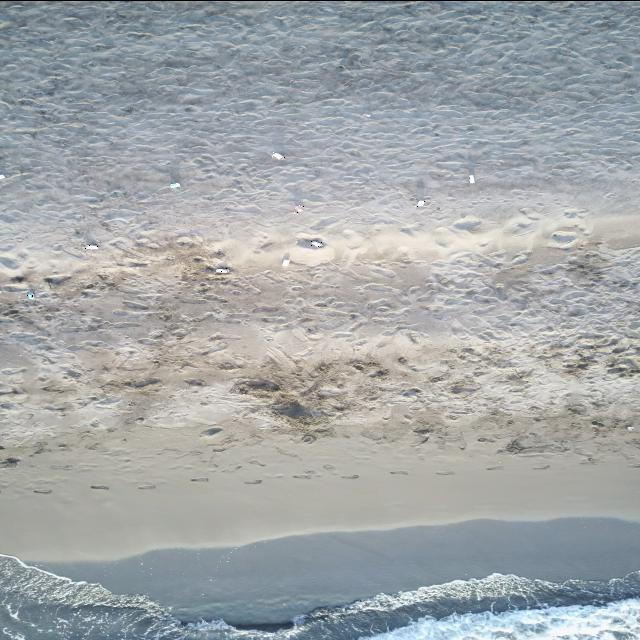Garbage: (452, 215, 480, 230), (204, 263, 231, 273), (296, 238, 324, 247), (281, 253, 288, 267), (312, 239, 324, 247), (293, 203, 303, 212), (272, 151, 283, 159), (213, 267, 230, 272), (84, 243, 98, 249), (27, 289, 35, 299), (168, 181, 180, 187), (416, 200, 424, 207), (468, 173, 473, 183), (627, 426, 632, 431), (0, 173, 4, 179), (363, 112, 369, 116)
